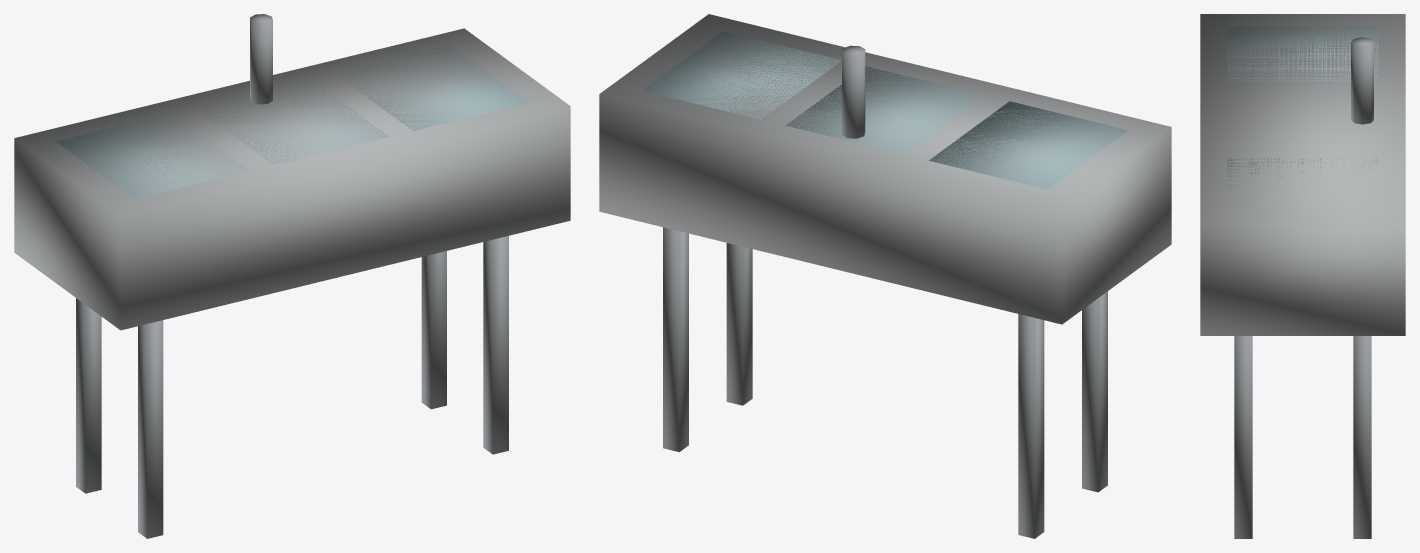
File: three_bay_sink__compact.glb
3 views of the same model, side by side, from view 1: azimuth 30°, elevation 25°; view 2: azimuth 150°, elevation 25°; view 3: azimuth 270°, elevation 25° (orthographic). The views are drawn at different scales.
Parts seen in each view (by area): view 1: world; view 2: world; view 3: world.
Boxes of the visible parts, bbox=[...] form: world: bbox=[14, 14, 570, 538]; world: bbox=[599, 14, 1171, 538]; world: bbox=[1200, 14, 1405, 538].
Size of the model in its own units: 1.3 by 1.18 by 0.5332.
